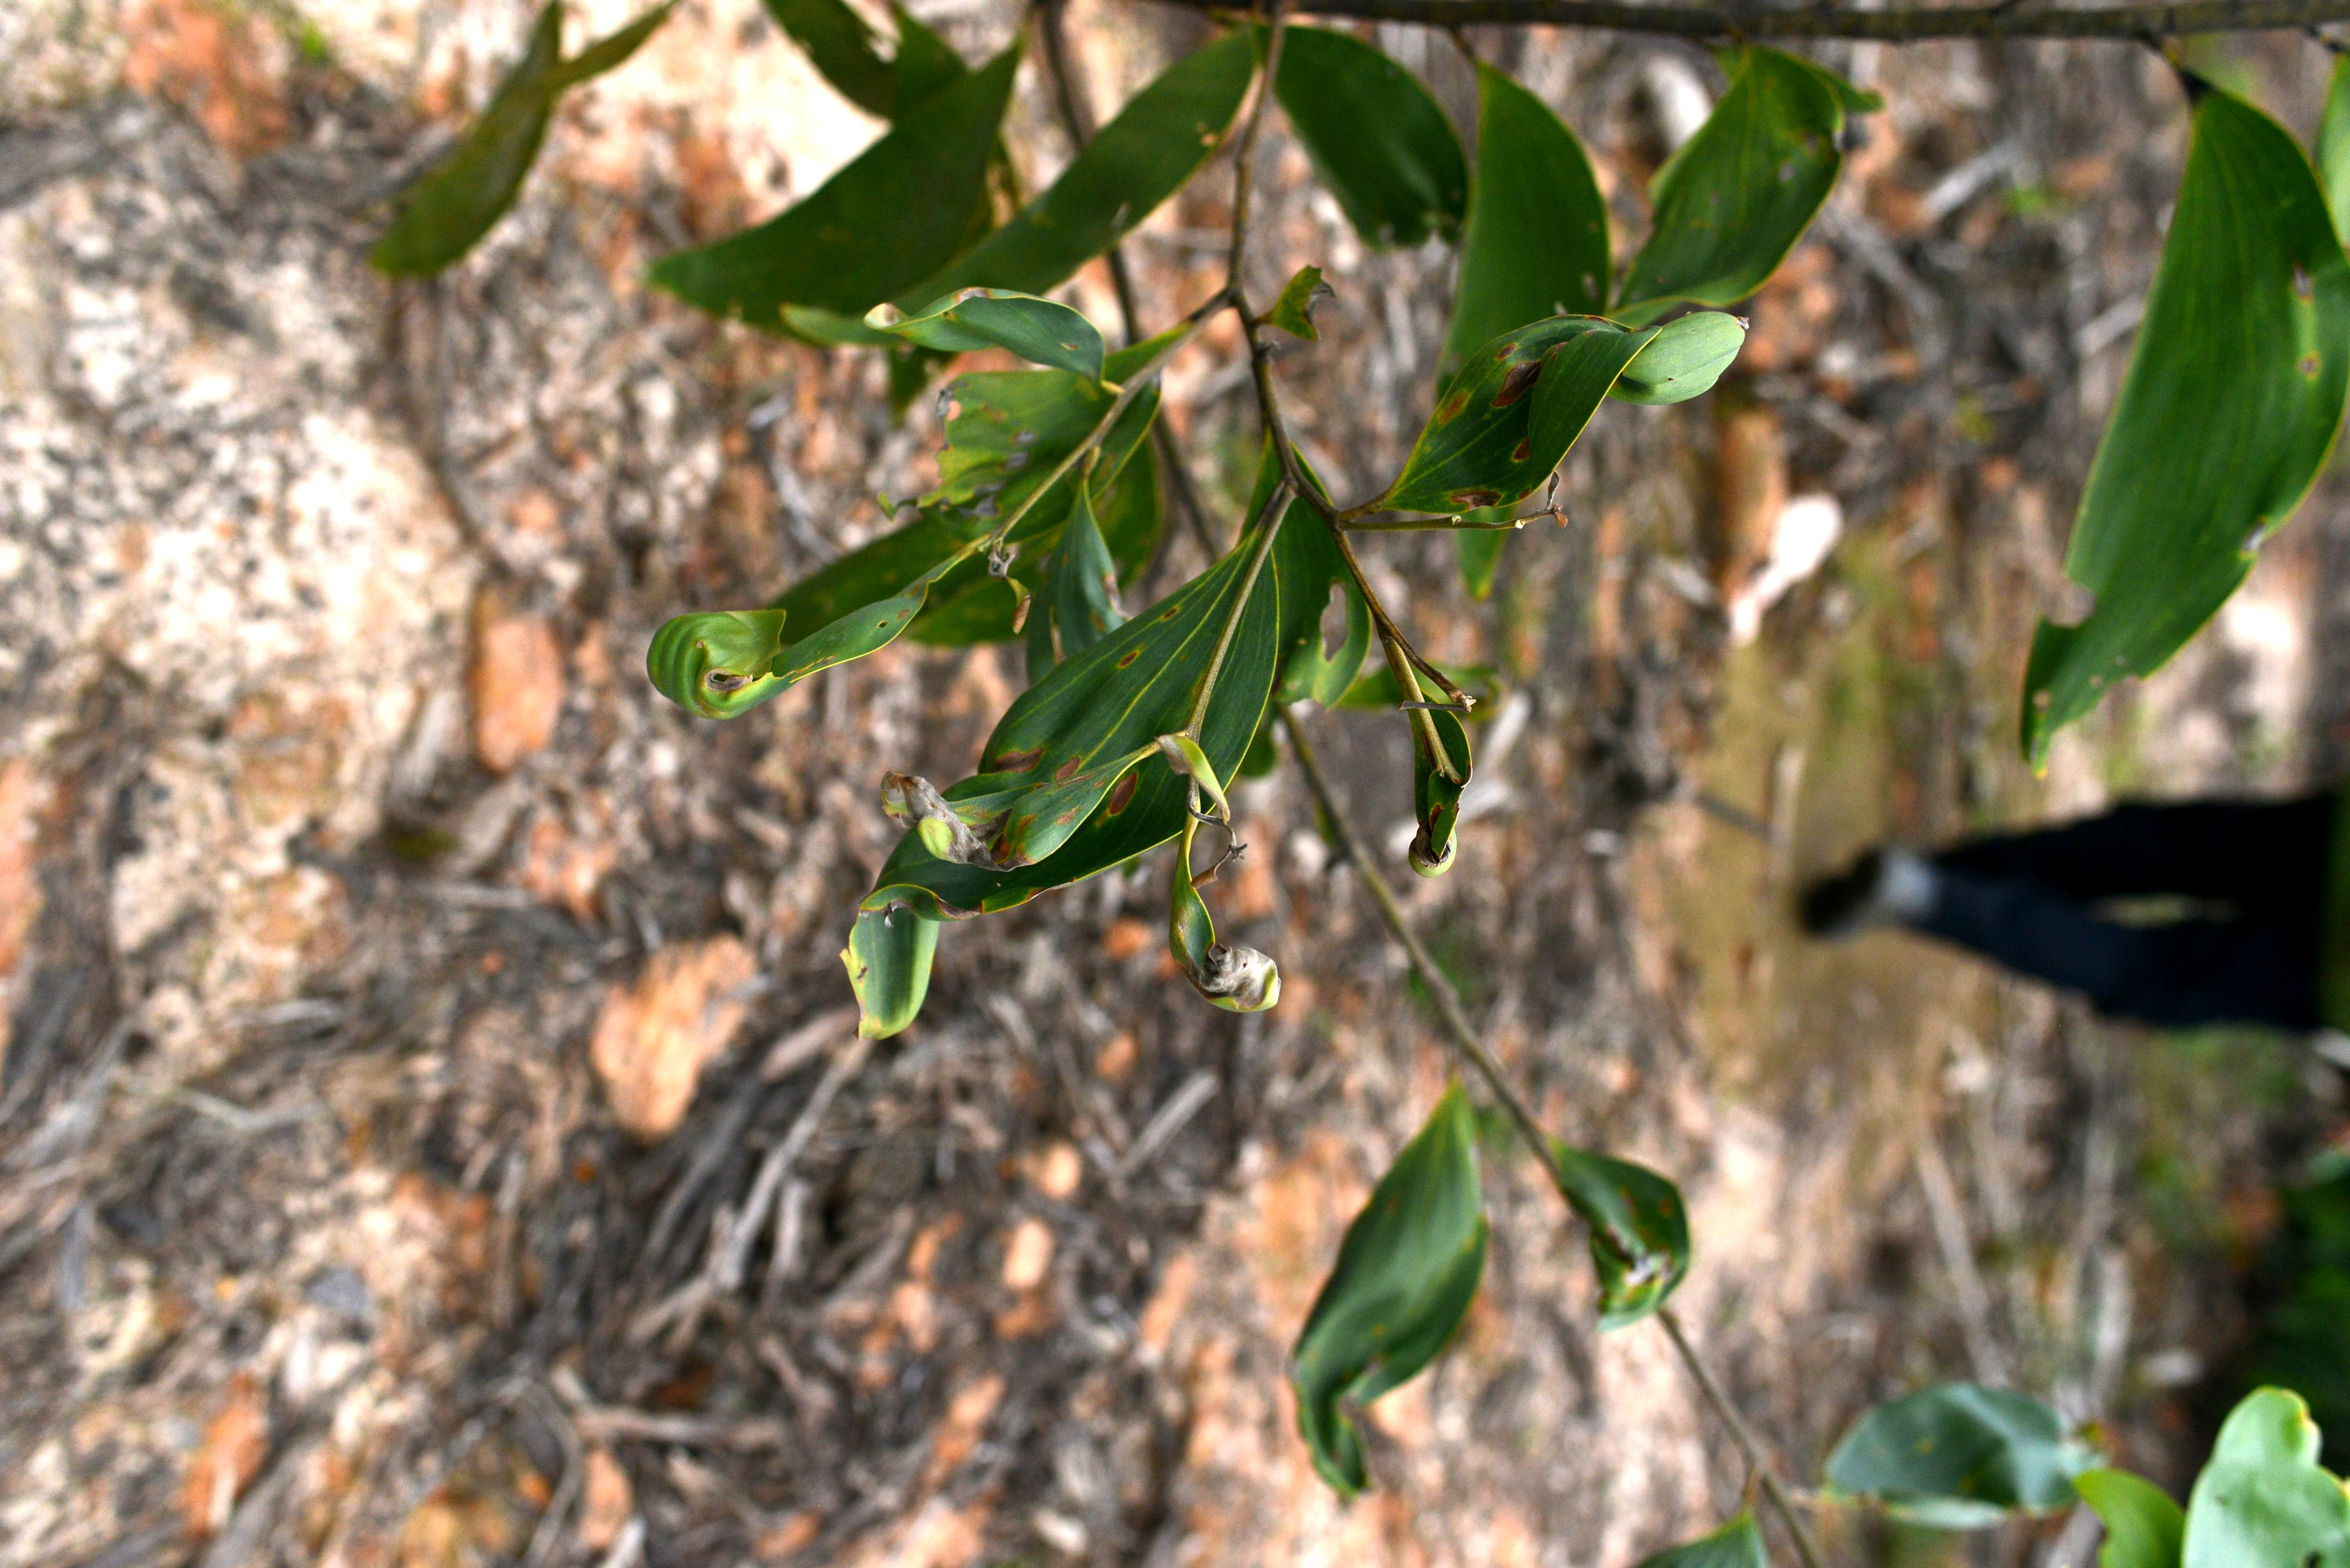Pasalora: (1358, 33, 1853, 541), (1281, 1099, 1480, 1508), (815, 271, 1118, 495), (1808, 1351, 2088, 1524), (1543, 1118, 1729, 1344), (1365, 630, 1517, 885), (623, 569, 831, 737), (2172, 1374, 2350, 1568), (866, 751, 1143, 873), (968, 518, 1130, 695), (1158, 864, 1300, 1018), (824, 878, 968, 1020), (1167, 724, 1239, 840)
